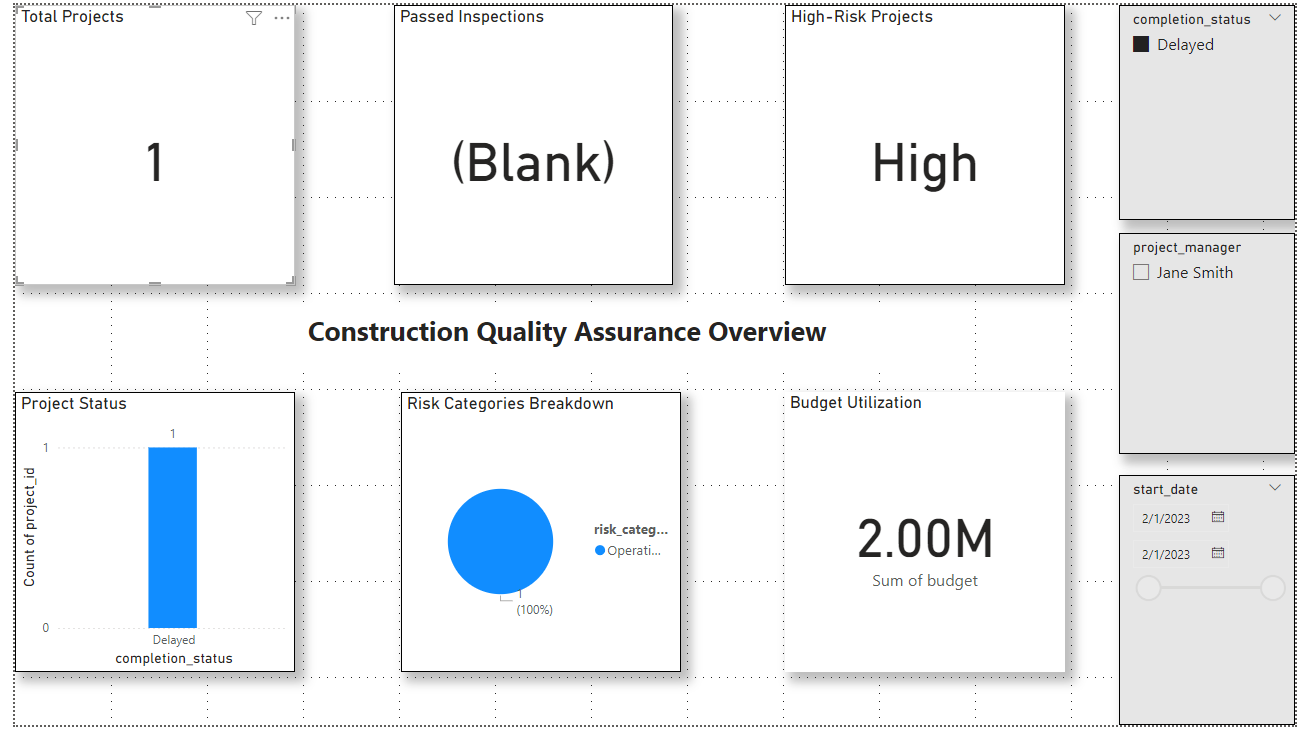

The dashboard page shown, as its layout file describes it:
{"tool":"powerbi","page":{"name":"Overview ","canvas":[1280,720],"ordinal":4},"visuals":[{"type":"card","title":"Total Projects","fields":{"Values":["public projects.project_id"]},"box":[0,0,280,280],"z":0},{"type":"card","title":"Passed Inspections","fields":{"Values":["public qualitymetrics.passed_inspection"]},"box":[379,0,279,280],"z":1000},{"type":"actionButton","box":[0,0,100,40],"z":2000},{"type":"card","title":"High-Risk Projects","fields":{"Values":["public risks.risk_level"]},"box":[770,0,280,280],"z":3000},{"type":"clusteredColumnChart","title":"Project Status","fields":{"Category":["public projects.completion_status"],"Y":["public projects.project_id"]},"box":[0,387,280,280],"z":3001},{"type":"pieChart","title":"Risk Categories Breakdown","fields":{"Category":["public risks.risk_category"],"Y":["public risks.risk_id"]},"box":[386,387,280,280],"z":3002},{"type":"card","title":"Budget Utilization","fields":{"Values":["public projects.budget"]},"box":[770,387,280,280],"z":3003},{"type":"slicer","fields":{"Values":["public projects.completion_status"]},"box":[1104,0,176,215],"z":3004},{"type":"slicer","fields":{"Values":["public projects.project_manager"]},"box":[1104,228,176,221],"z":3005},{"type":"slicer","fields":{"Values":["public projects.start_date"]},"box":[1104,470,176,250],"z":3006},{"type":"textbox","box":[220,302,664,63],"z":3007}]}

Visuals, with their boxes in screenshot pixels (x1, y1, x2, y2), scaled from the page's 1280x720 canvas onto the 1314x734 screenshot:
"Total Projects" card: (left=0, top=0, right=287, bottom=285)
"Passed Inspections" card: (left=389, top=0, right=675, bottom=285)
actionButton: (left=0, top=0, right=103, bottom=41)
"High-Risk Projects" card: (left=790, top=0, right=1078, bottom=285)
"Project Status" clusteredColumnChart: (left=0, top=395, right=287, bottom=680)
"Risk Categories Breakdown" pieChart: (left=396, top=395, right=684, bottom=680)
"Budget Utilization" card: (left=790, top=395, right=1078, bottom=680)
slicer - public projects.completion_status: (left=1133, top=0, right=1313, bottom=219)
slicer - public projects.project_manager: (left=1133, top=232, right=1313, bottom=458)
slicer - public projects.start_date: (left=1133, top=479, right=1313, bottom=733)
textbox: (left=226, top=308, right=907, bottom=372)
